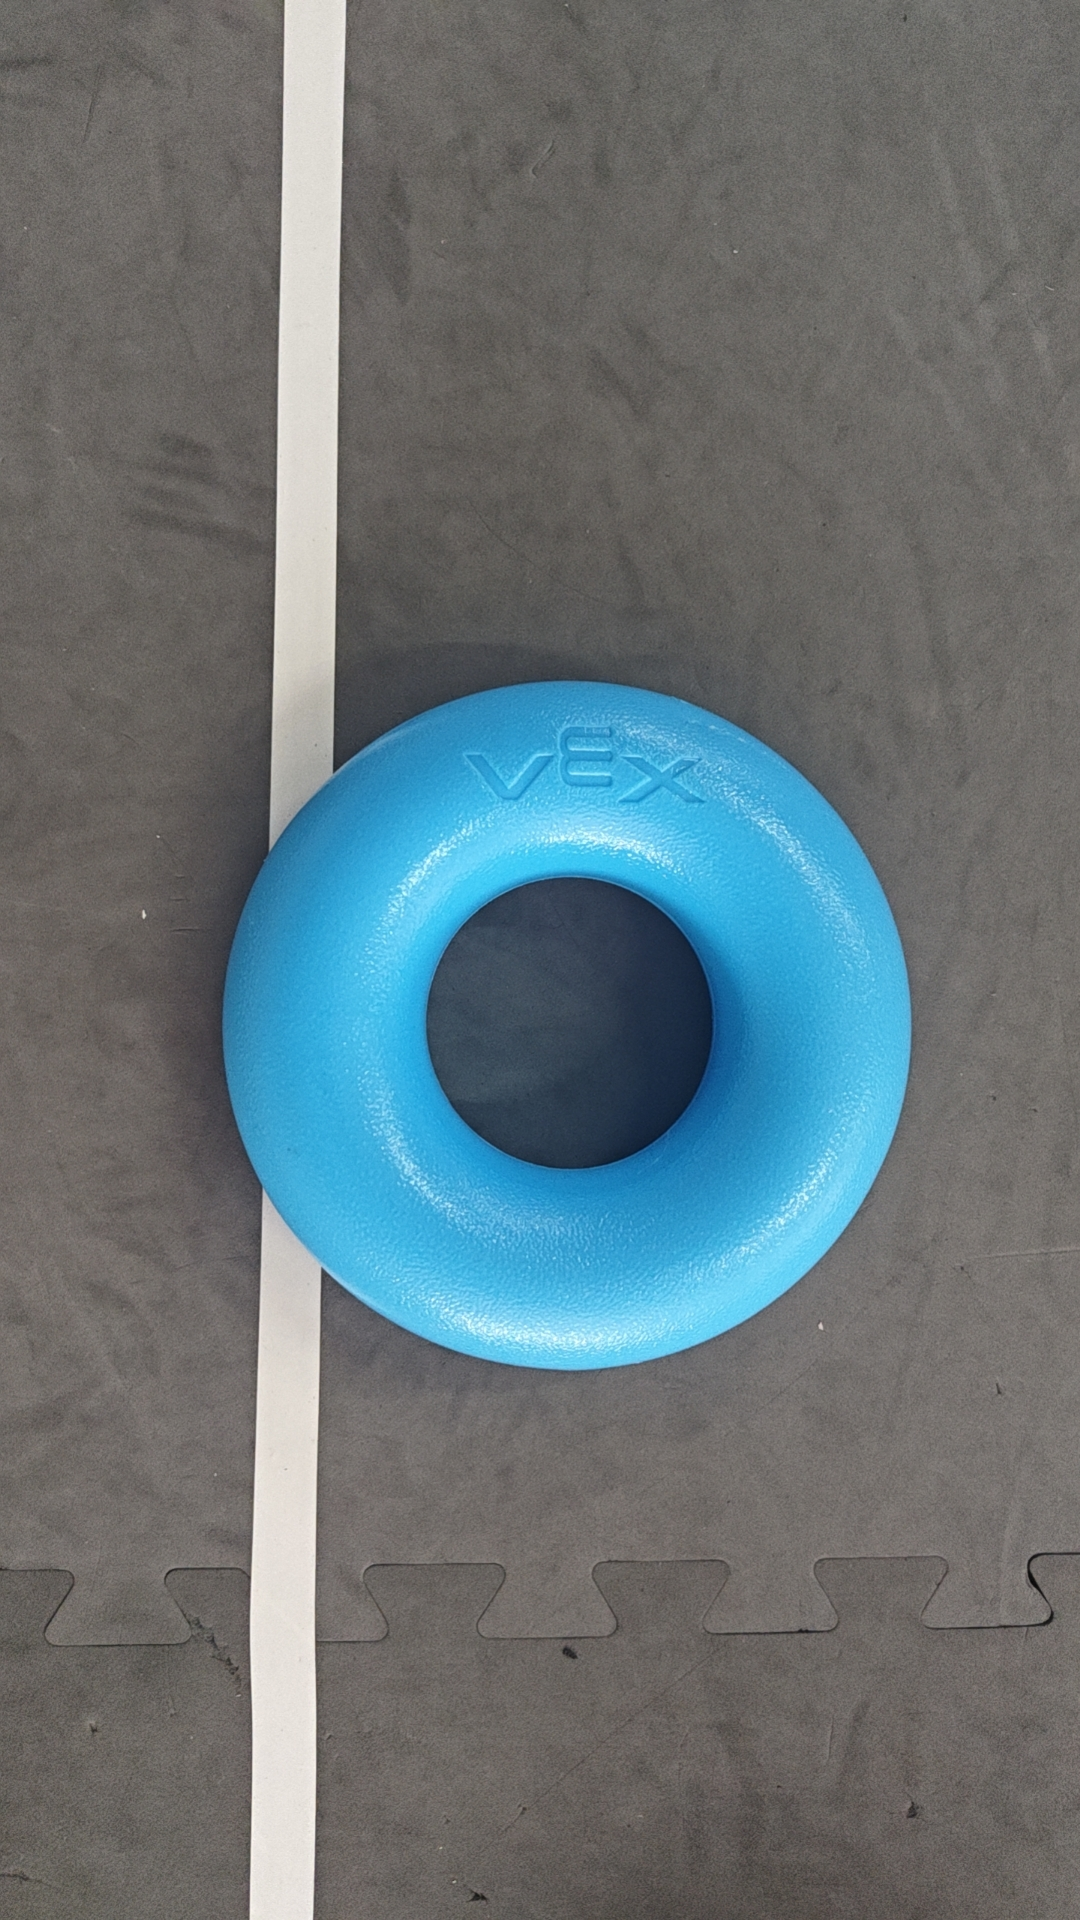blue: (218, 675, 916, 1366)
